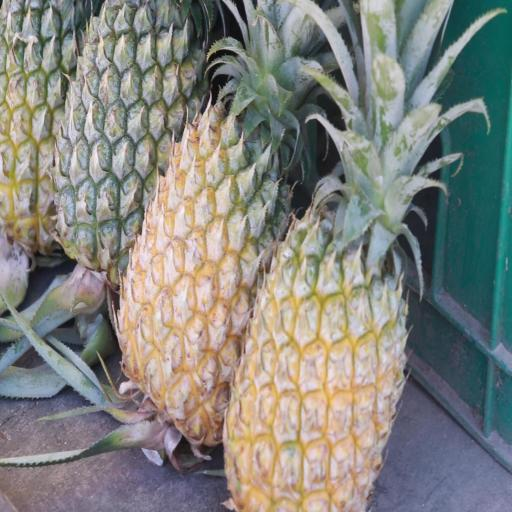------------------------------: (0, 0, 107, 261)
Pineapple - v8 v1: (110, 0, 295, 461), (218, 134, 412, 512)
